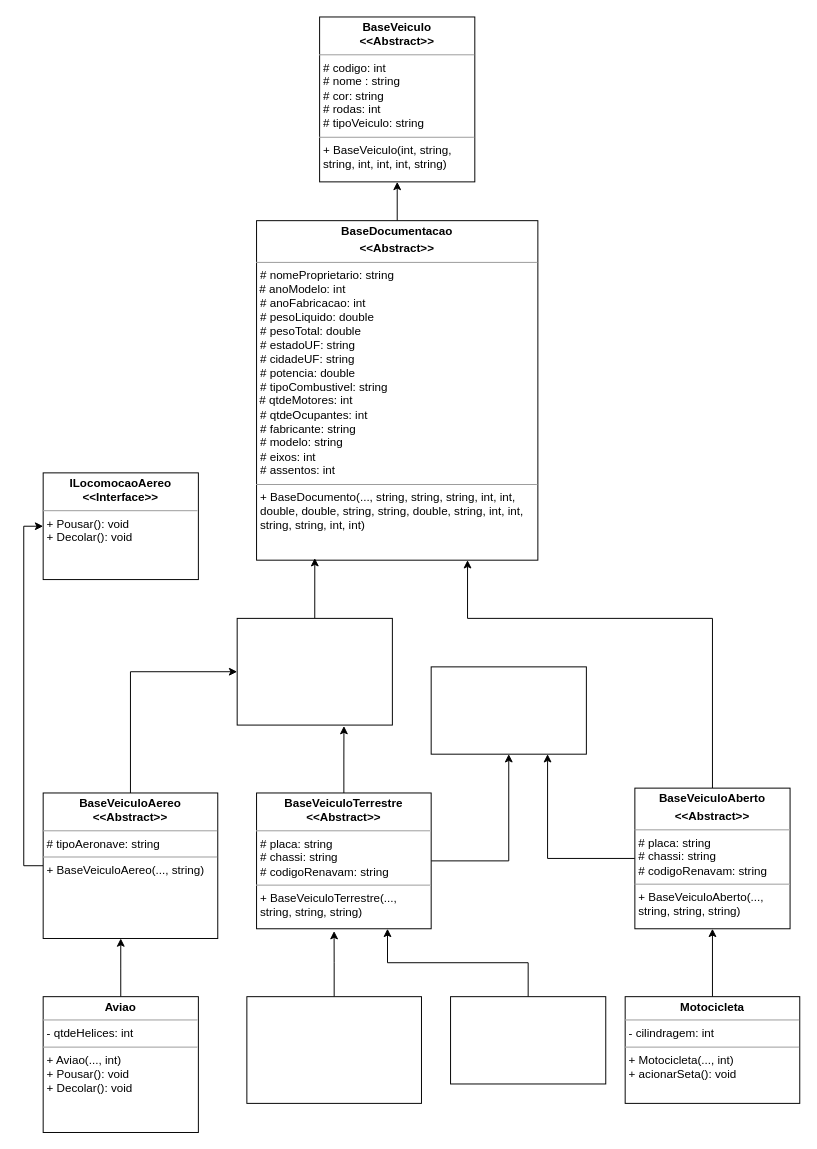
Image size: 817x1149. Some labels were removed from this diagram. The shapes that lost their labels are listed below. From the top down, each one's box as (x1, y1, x2, y2) in pixels, then its label:
(236, 617, 392, 725): BaseVeiculoFechado <<Abstract>> # portas: int + BaseVeiculoFechado(..., int)
(430, 666, 586, 754): ISinalizacao <<Interface>> + acionar Seta(): void
(246, 996, 421, 1103): Caminhao - tipoCarga: string + Caminhao(..., string) + acionarSeta(): void
(450, 996, 606, 1084): Onibus - tipoOnibus: string + Onibus(..., string) + acionarSeta(): void
